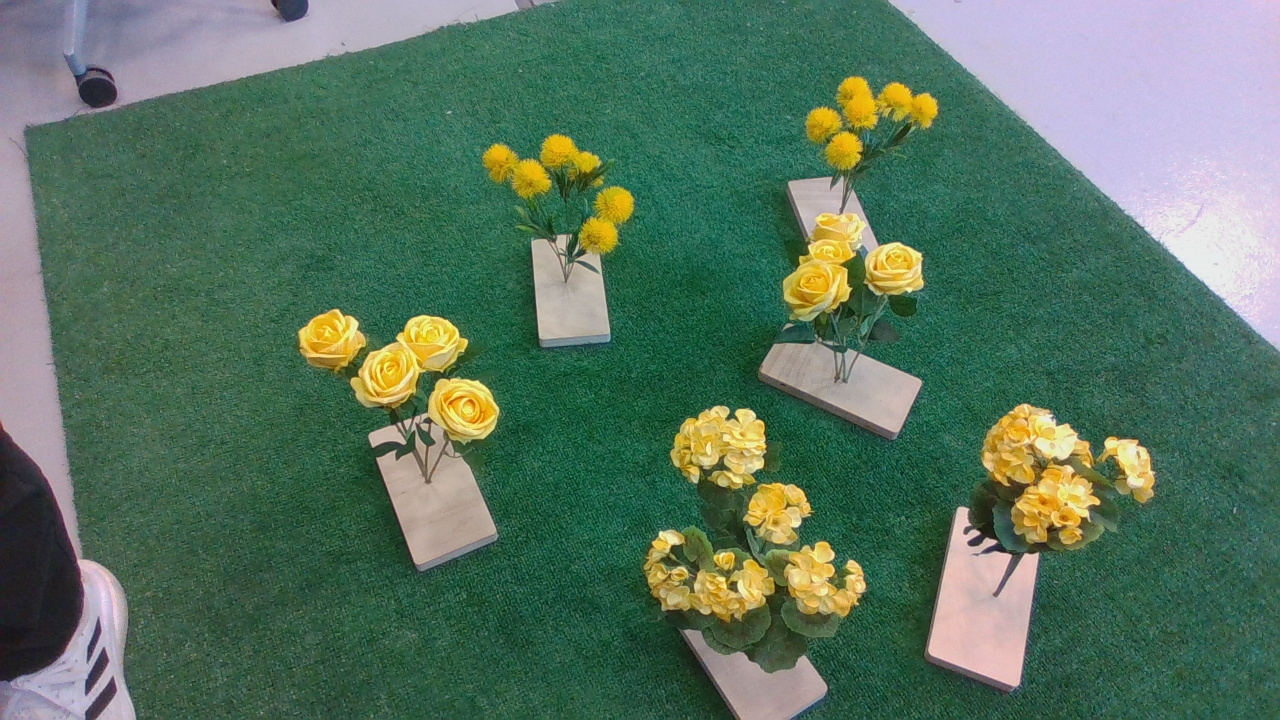dandelion: (472, 132, 645, 285), (803, 78, 956, 194)
geranium: (635, 405, 874, 679), (963, 398, 1166, 565)
rose: (295, 309, 514, 474), (768, 212, 938, 357)
